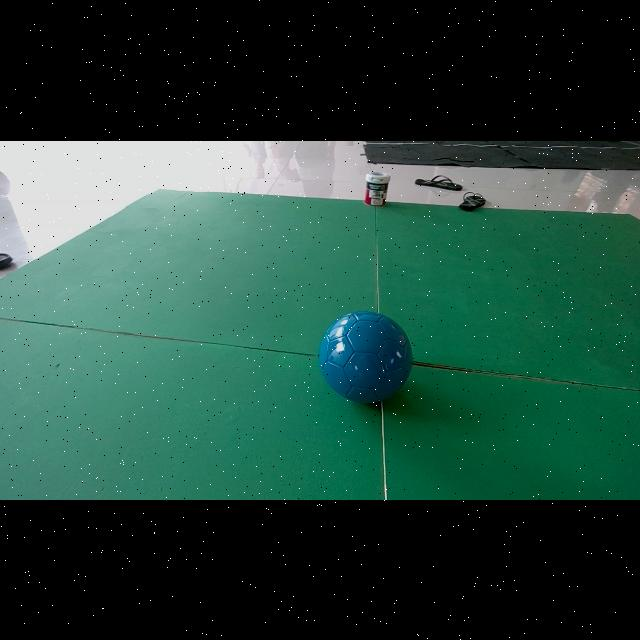B: (318, 310, 413, 403)
